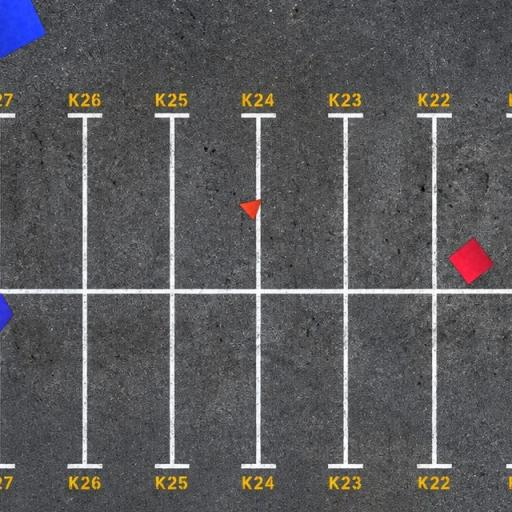BLUE_SQUARE: (0, 0, 47, 65)
RED_SQUARE: (447, 236, 495, 286)
